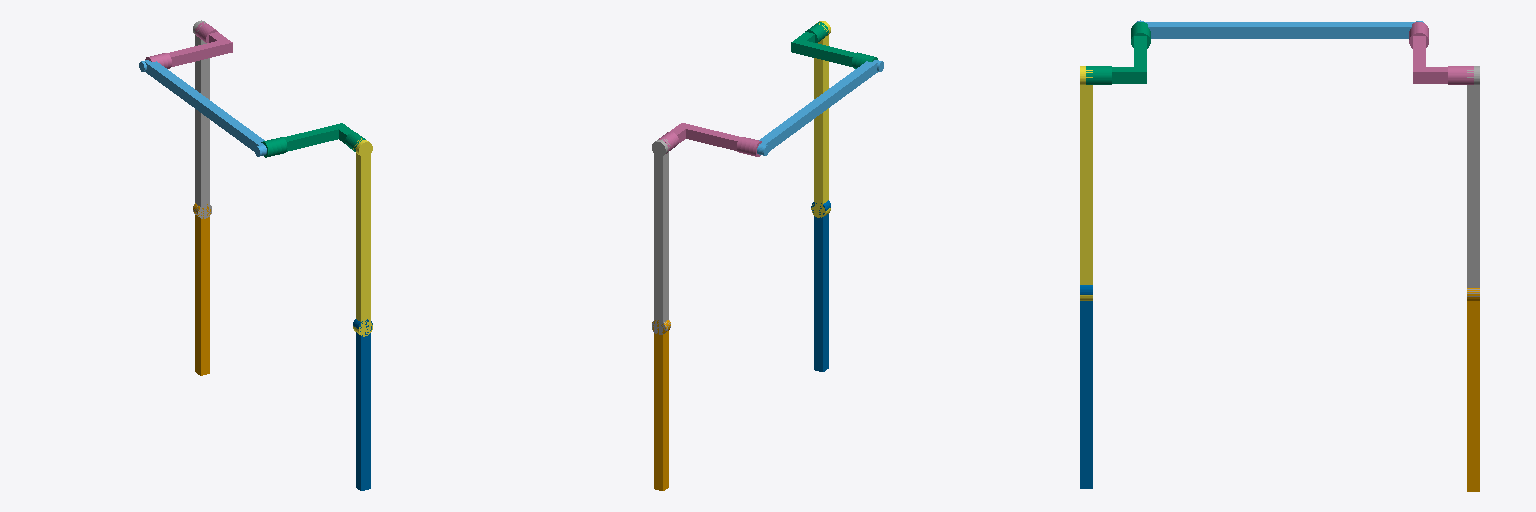
The robot description file, URDF, robot "rdc_biped_robot":
<?xml version="1.0"?>

<robot name="rdc_biped_robot">
  <link name="base_link"/>
  <joint name="base_joint" type="fixed">
    <parent link="base_link"/>
    <child link="body"/>
  </joint>

  <link name="body">
    <visual>
      <origin rpy="0 0 0" xyz="0 0 0.364"/>
      <geometry>
        <mesh filename="meshes/stl/body.stl" scale="1 1 1"/>
      </geometry>
    </visual>
    <collision>
       <origin rpy="0 0 0" xyz="0 0 0.364"/>
       <geometry>      
         <mesh filename="meshes/stl/body.stl" scale="1 1 1"/>
       </geometry>
    </collision>
    <inertial>
      <origin xyz="0 0 0"/>
      <mass value="1.782"/>
      <inertia ixx="0.0065" ixy="0.0" ixz="0.0" iyy="0.0" iyz="0.0" izz="0.0065"/>
    </inertial>
  </link>

  <joint name="r_waist_roll" type="revolute">
    <parent link="body"/>
    <child link="r_wr2wp"/>
    <origin rpy="0 0 0" xyz="0 -0.105 0.364"/>
    <axis xyz="1 0 0"/>
    <limit effort="7.2" lower="-6.28" upper="6.28" velocity="11.519173063"/>
  </joint>

  <link name="r_wr2wp">
    <visual>
      <origin rpy="0 0 0" xyz="0.075 0.0 0.0"/>
      <geometry>
        <mesh filename="meshes/stl/link_wr2wp_r.stl" scale="1 1 1"/>
      </geometry>
    </visual>
    <collision>
      <origin rpy="0 0 0" xyz="0.075 0.0 0.0"/>
      <geometry>
        <mesh filename="meshes/stl/link_wr2wp_r.stl" scale="1 1 1"/>
      </geometry>
    </collision>
    <inertial>
      <origin xyz="0 0 0"/>
      <mass value="1.782"/>
      <inertia ixx="0.0" ixy="0.0" ixz="0.0" iyy="0.0014" iyz="0.0" izz="0.0014"/>
    </inertial>
  </link>

  <joint name="r_waist_pitch" type="revolute">
    <parent link="r_wr2wp"/>
    <child link="r_wp2kp"/>
    <origin rpy="0 0 0" xyz="0.08 -0.041 0.0"/>
    <axis xyz="0 1 0"/>
    <limit effort="7.2" lower="-6.28" upper="6.28" velocity="11.519173063"/>
  </joint>

  <link name="r_wp2kp">
    <visual>
      <origin rpy="0 0 0" xyz="0 0 -0.09"/>
      <geometry>
        <mesh filename="meshes/stl/link_wp2kp.stl" scale="1 1 1"/>
      </geometry>
    </visual>
    <collision>
      <origin rpy="0 0 0" xyz="0 0 -0.09"/>
      <geometry>
        <mesh filename="meshes/stl/link_wp2kp.stl" scale="1 1 1"/>
      </geometry>
    </collision>
    <inertial>
      <origin xyz="0 0 0"/>
      <mass value="1"/>
      <inertia ixx="0.0108" ixy="0.0" ixz="0.0" iyy="0.0108" iyz="0.0" izz="0.0"/>
    </inertial>
  </link>

  <joint name="r_knee_pitch" type="revolute">
    <parent link="r_wp2kp"/>
    <child link="r_kp2heel"/>
    <origin rpy="0 0 0" xyz="0 0 -0.18"/>
    <axis xyz="0 1 0"/>
    <limit effort="7.2" lower="-6.28" upper="6.28" velocity="11.519173063"/>
  </joint>

  <link name="r_kp2heel">
    <visual>
      <origin rpy="0 0 0" xyz="0 0 -0.07"/>
      <geometry>
        <mesh filename="meshes/stl/link_kp2heel.stl" scale="1 1 1"/>
      </geometry>
    </visual>
    <collision>
      <origin rpy="0 0 0" xyz="0 0 -0.07"/>
      <geometry>
        <mesh filename="meshes/stl/link_kp2heel.stl" scale="1 1 1"/>
      </geometry>
    </collision>
    <inertial>
      <origin xyz="0 0 0"/>
      <mass value="1"/>
      <inertia ixx="0.0113" ixy="0.0" ixz="0.0" iyy="0.0113" iyz="0.0" izz="0.0"/>
    </inertial>
  </link>

  <joint name="r_ankle" type="fixed">
    <parent link="r_kp2heel"/>
    <child link="r_heel2end"/>
    <origin rpy="0 0 0" xyz="0 0 -0.164"/>
  </joint>

  <link name="r_heel2end">
    <visual>
      <origin rpy="0 0 0" xyz="0 0 0"/>
      <geometry>
        <mesh filename="meshes/stl/link_heel2end.stl" scale="1 1 1"/>
      </geometry>
    </visual>
    <collision>
      <origin rpy="0 0 0" xyz="0 0 0"/>
      <geometry>
        <mesh filename="meshes/stl/link_heel2end.stl" scale="1 1 1"/>
      </geometry>
    </collision>
    <inertial>
      <origin xyz="0 0 0"/>
      <mass value="0.0"/>
      <inertia ixx="0.0113" ixy="0.0" ixz="0.0" iyy="0.0113" iyz="0.0" izz="0.0"/>
    </inertial>
  </link>


  <joint name="l_waist_roll" type="revolute">
    <parent link="body"/>
    <child link="l_wr2wp"/>
    <origin rpy="0 0 0" xyz="0 0.105 0.364"/>
    <axis xyz="1 0 0"/>
    <limit effort="7.2" lower="-6.28" upper="6.28" velocity="11.519173063"/>
  </joint>

  <link name="l_wr2wp">
    <visual>
      <origin rpy="0 0 0" xyz="0.075 0.0 0.0"/>
      <geometry>
        <mesh filename="meshes/stl/link_wr2wp_l.stl" scale="1 1 1"/>
      </geometry>
    </visual>
    <collision>
      <origin rpy="0 0 0" xyz="0.075 0.0 0.0"/>
      <geometry>
        <mesh filename="meshes/stl/link_wr2wp_l.stl" scale="1 1 1"/>
      </geometry>
    </collision>
    <inertial>
      <origin xyz="0 0 0"/>
      <mass value="1.782"/>
      <inertia ixx="0.0" ixy="0.0" ixz="0.0" iyy="0.0014" iyz="0.0" izz="0.0014"/>
    </inertial>
  </link>

  <joint name="l_waist_pitch" type="revolute">
    <parent link="l_wr2wp"/>
    <child link="l_wp2kp"/>
    <origin rpy="0 0 0" xyz="0.08 0.041 0.0"/>
    <axis xyz="0 1 0"/>
    <limit effort="7.2" lower="-6.28" upper="6.28" velocity="11.519173063"/>
  </joint>

  <link name="l_wp2kp">
    <visual>
      <origin rpy="0 0 0" xyz="0 0 -0.09"/>
      <geometry>
        <mesh filename="meshes/stl/link_wp2kp.stl" scale="1 1 1"/>
      </geometry>
    </visual>
    <collision>
      <origin rpy="0 0 0" xyz="0 0 -0.09"/>
      <geometry>
        <mesh filename="meshes/stl/link_wp2kp.stl" scale="1 1 1"/>
      </geometry>
    </collision>
    <inertial>
      <origin xyz="0 0 0"/>
      <mass value="1"/>
      <inertia ixx="0.0108" ixy="0.0" ixz="0.0" iyy="0.0108" iyz="0.0" izz="0.0"/>
    </inertial>
  </link>

  <joint name="l_knee_pitch" type="revolute">
    <parent link="l_wp2kp"/>
    <child link="l_kp2heel"/>
    <origin rpy="0 0 0" xyz="0 0 -0.18"/>
    <axis xyz="0 1 0"/>
    <limit effort="7.2" lower="-6.28" upper="6.28" velocity="11.519173063"/>
  </joint>

  <link name="l_kp2heel">
    <visual>
      <origin rpy="0 0 0" xyz="0 0 -0.072"/>
      <geometry>
        <mesh filename="meshes/stl/link_kp2heel.stl" scale="1 1 1"/>
      </geometry>
    </visual>
    <collision>
      <origin rpy="0 0 0" xyz="0 0 -0.072"/>
      <geometry>
        <mesh filename="meshes/stl/link_kp2heel.stl" scale="1 1 1"/>
      </geometry>
    </collision>
    <inertial>
      <origin xyz="0 0 0"/>
      <mass value="1"/>
      <inertia ixx="0.0113" ixy="0.0" ixz="0.0" iyy="0.0113" iyz="0.0" izz="0.0"/>
    </inertial>
  </link>

  <joint name="l_ankle" type="fixed">
    <parent link="l_kp2heel"/>
    <child link="l_heel2end"/>
    <origin rpy="0 0 0" xyz="0 0 -0.164"/>
  </joint>

  <link name="l_heel2end">
    <visual>
      <origin rpy="0 0 0" xyz="0 0 0"/>
      <geometry>
        <mesh filename="meshes/stl/link_heel2end.stl" scale="1 1 1"/>
      </geometry>
    </visual>
    <collision>
      <origin rpy="0 0 0" xyz="0 0 0"/>
      <geometry>
        <mesh filename="meshes/stl/link_heel2end.stl" scale="1 1 1"/>
      </geometry>
    </collision>
    <inertial>
      <origin xyz="0 0 0"/>
      <mass value="0.0"/>
      <inertia ixx="0.0113" ixy="0.0" ixz="0.0" iyy="0.0113" iyz="0.0" izz="0.0"/>
    </inertial>
  </link>

</robot>

--- What the picture shows (computed from the rendered views, not written in the file) ---
Views: 3 orthographic renders of the robot side by side, from view 1: azimuth 30°, elevation 25°; view 2: azimuth 150°, elevation 25°; view 3: azimuth 270°, elevation 25°.
Model rdc_biped_robot with 10 links and 9 joints (6 revolute, 3 fixed), rooted at base_link, posed all joints at 0.
Visible links, largest first — view 1: r_wp2kp, l_kp2heel, r_kp2heel, body, l_wp2kp, l_wr2wp, r_wr2wp; view 2: l_wp2kp, l_kp2heel, r_kp2heel, body, r_wp2kp, r_wr2wp, l_wr2wp; view 3: body, l_wp2kp, r_wp2kp, l_kp2heel, r_kp2heel, r_wr2wp, l_wr2wp.
Link boxes in pixels (x1,y1,x2,y2): r_wp2kp: (353, 138, 372, 336); l_kp2heel: (193, 203, 210, 375); r_kp2heel: (353, 319, 372, 490); body: (139, 60, 266, 156); l_wp2kp: (193, 20, 211, 218); l_wr2wp: (145, 22, 232, 68); r_wr2wp: (261, 123, 365, 157); l_wp2kp: (652, 139, 670, 334); l_kp2heel: (652, 320, 670, 490); r_kp2heel: (811, 200, 830, 371); body: (757, 60, 883, 155); r_wp2kp: (811, 21, 830, 217); r_wr2wp: (791, 22, 877, 68); l_wr2wp: (659, 123, 761, 156); body: (1136, 20, 1423, 38); l_wp2kp: (1467, 66, 1479, 296); r_wp2kp: (1080, 66, 1092, 300); l_kp2heel: (1467, 288, 1479, 491); r_kp2heel: (1080, 285, 1092, 488); r_wr2wp: (1086, 22, 1150, 84); l_wr2wp: (1409, 22, 1473, 84).
Bounding box of the posed robot: 0.095 × 0.302 × 0.3515 m (x, y, z).
Meshes: 6 distinct files referenced, 7 mesh visuals loaded (5 binary STL); not drawn: 2 (reference not matched to a file when rendering).